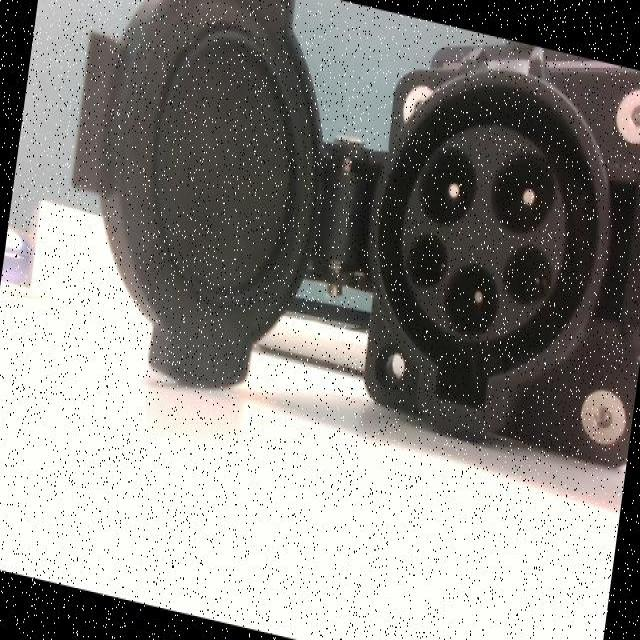Type 1: (378, 106, 578, 380)
